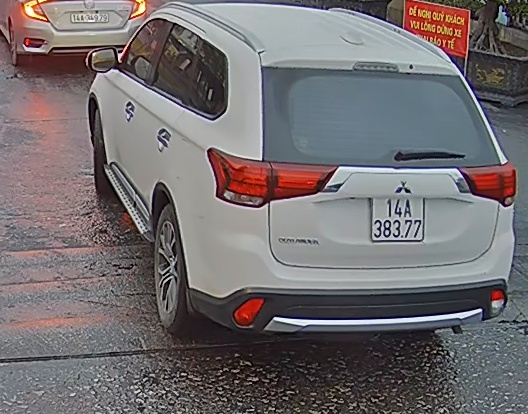vehicle plate: (366, 190, 431, 243)
